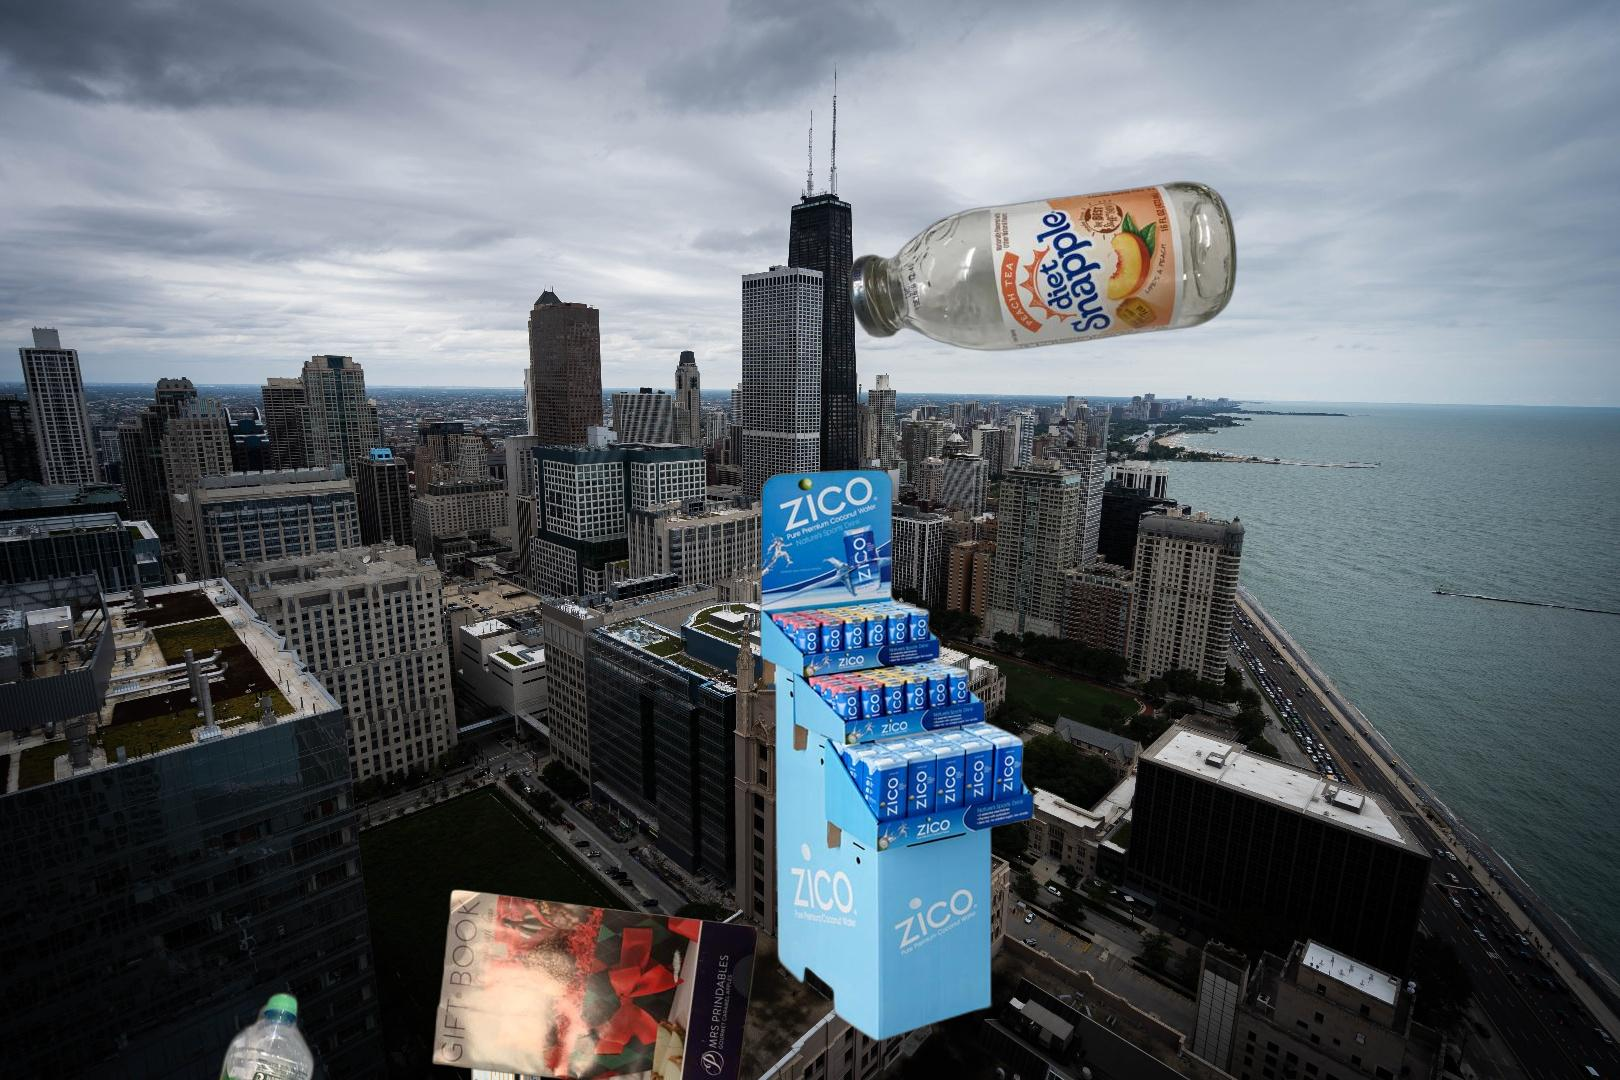battery: (466, 1019, 544, 1080)
glass: (845, 178, 1242, 354)
paper: (428, 888, 763, 1080)
plastic-bottles: (164, 987, 319, 1080)
trashbox-cardboard: (755, 464, 1039, 1047), (121, 1045, 627, 1080)
